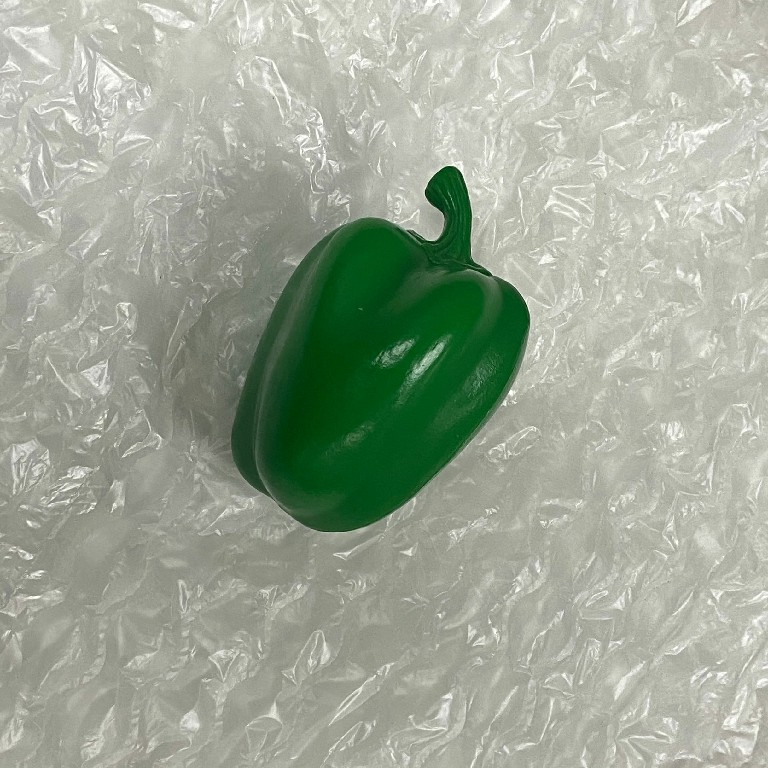fruit_pepper: (227, 162, 533, 535)
